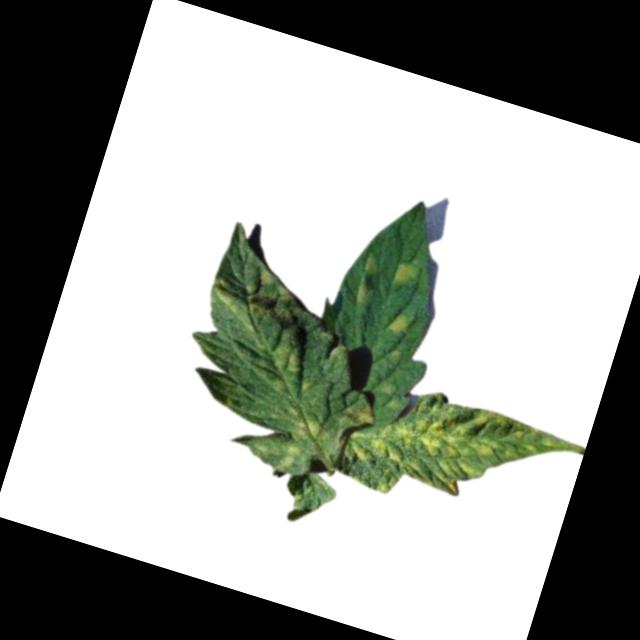Leaf_Mold: (335, 373, 578, 544), (204, 254, 314, 345), (271, 412, 326, 484), (348, 249, 387, 311), (264, 340, 307, 396), (383, 302, 415, 337), (392, 258, 419, 289)
